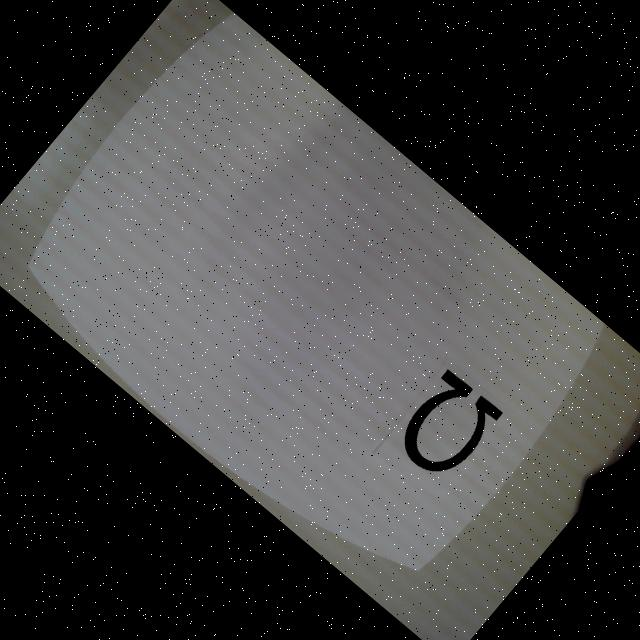OMEGA: (387, 367, 505, 488)
